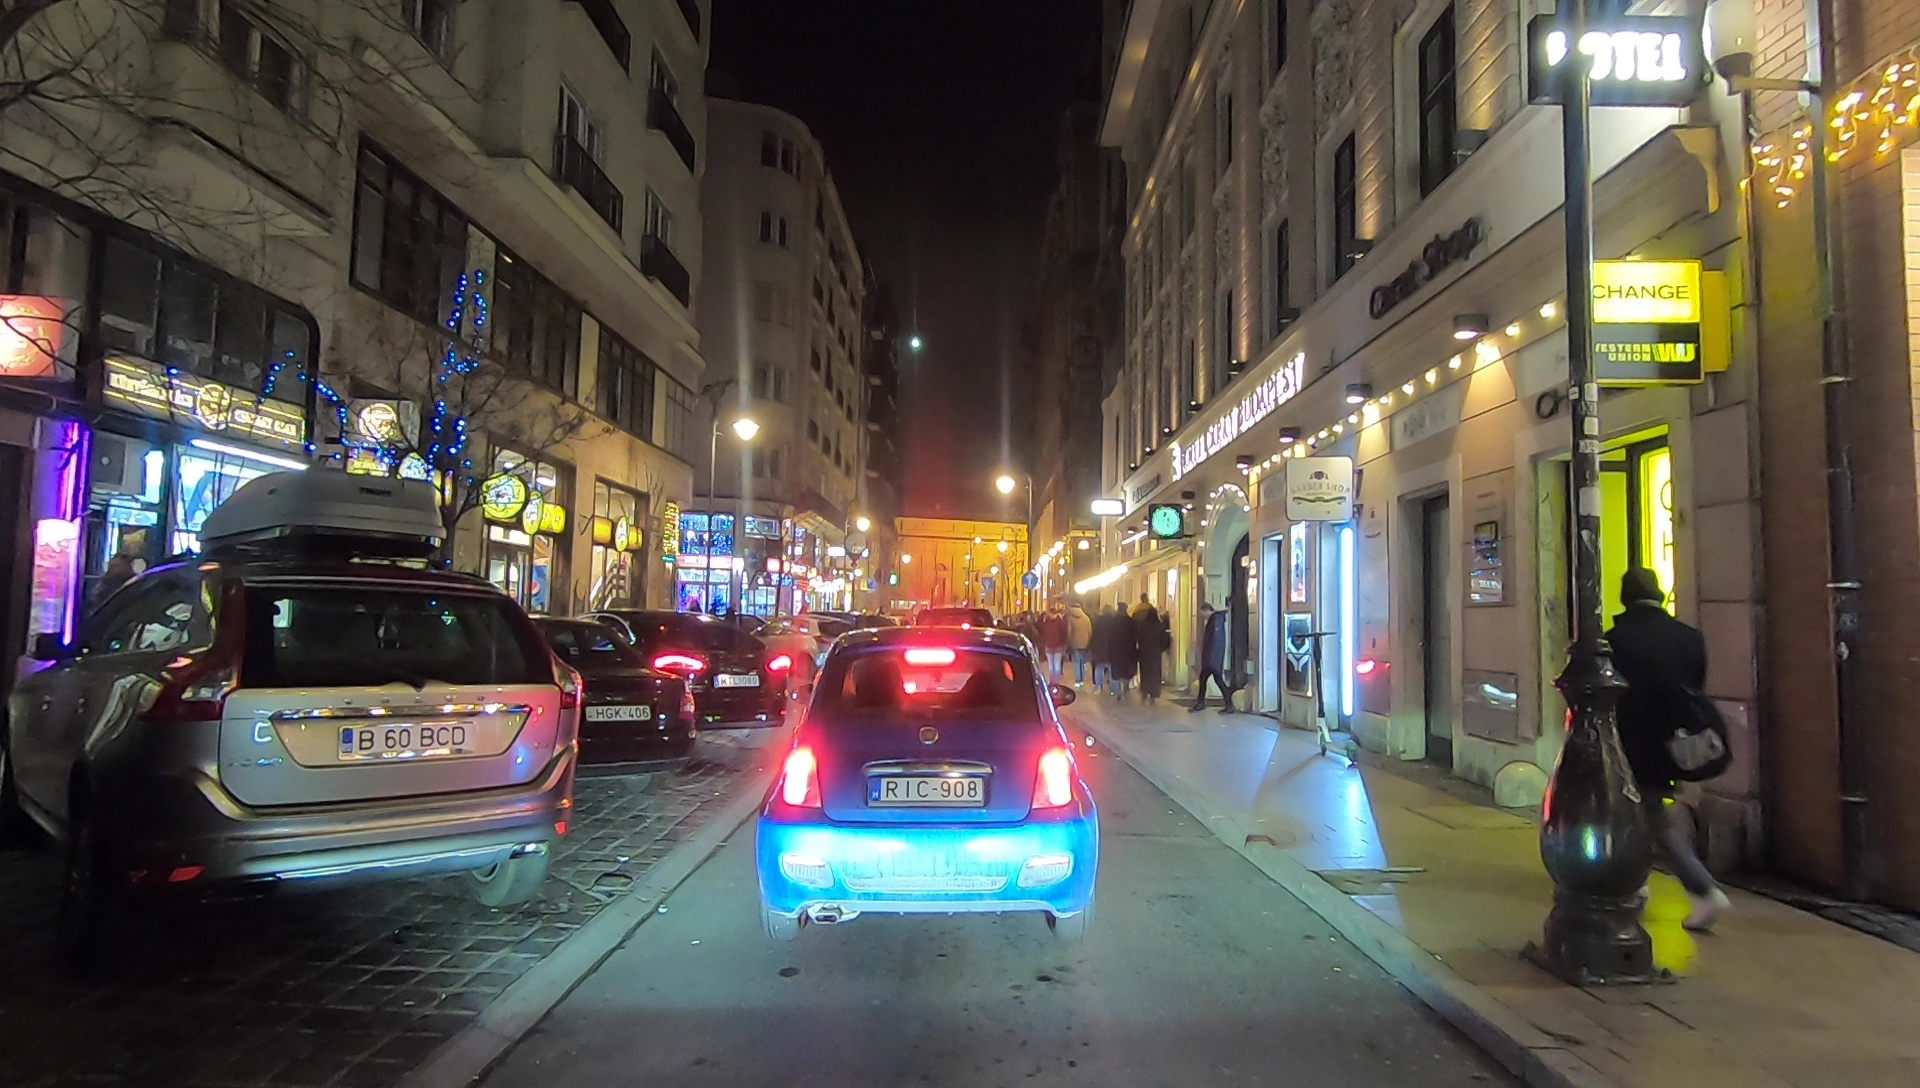person: (1586, 569, 1734, 934), (1195, 606, 1232, 714), (1136, 612, 1167, 705), (1092, 601, 1118, 693), (1067, 603, 1089, 688), (1112, 604, 1132, 699), (1134, 596, 1154, 680), (1044, 609, 1065, 683)
